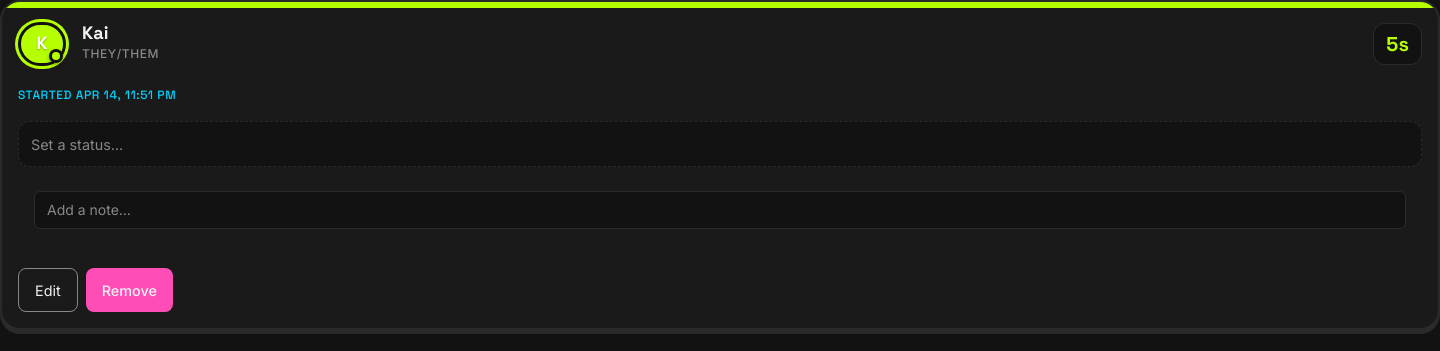
it: collapse toggles compact view
The image size is (1440, 351).
expect the text "they/them" is shown: met, box x1=82 y1=46 x2=159 y2=61
Step 1. Click the button with test id "card-header" → coordinates (42, 44), box x1=18 y1=21 x2=1422 y2=66
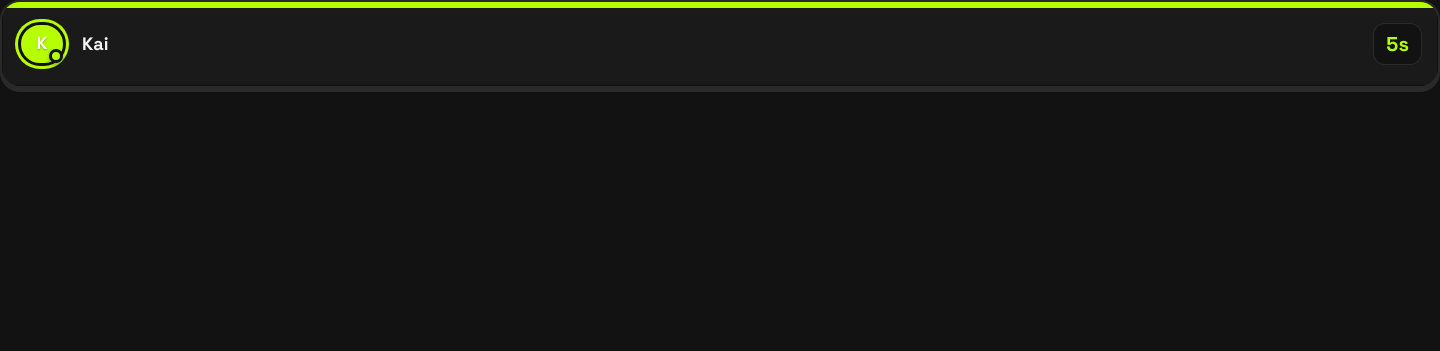
expect the text "they/them" is gone: met
